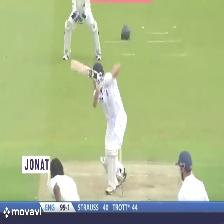batsman: (68, 59, 128, 190)
